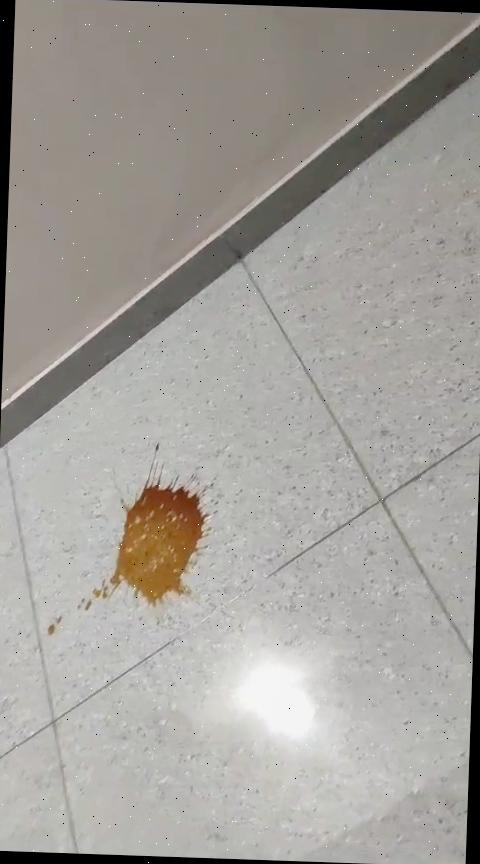dirty_floor: (46, 444, 216, 644)
